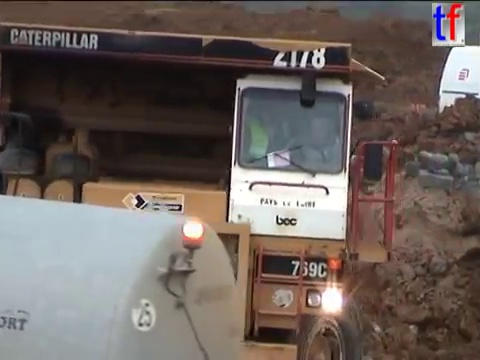truck: (1, 17, 401, 360), (1, 189, 243, 360)
